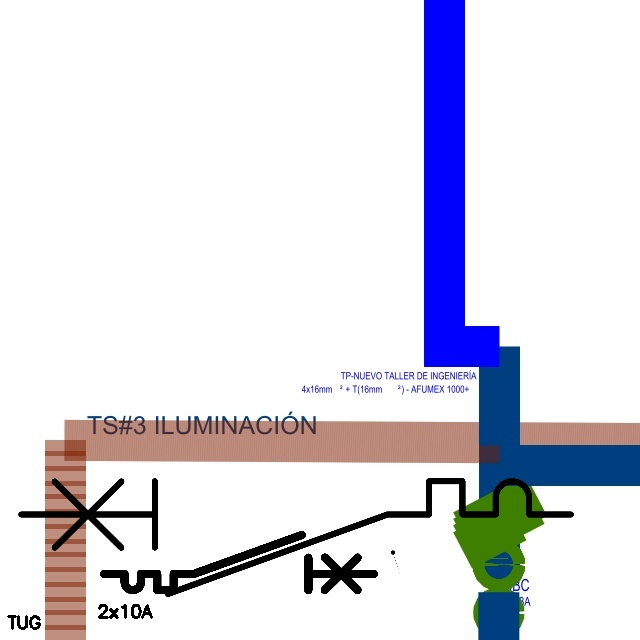interruptor_termomagnetico: (7, 467, 585, 608), (97, 528, 381, 597)
